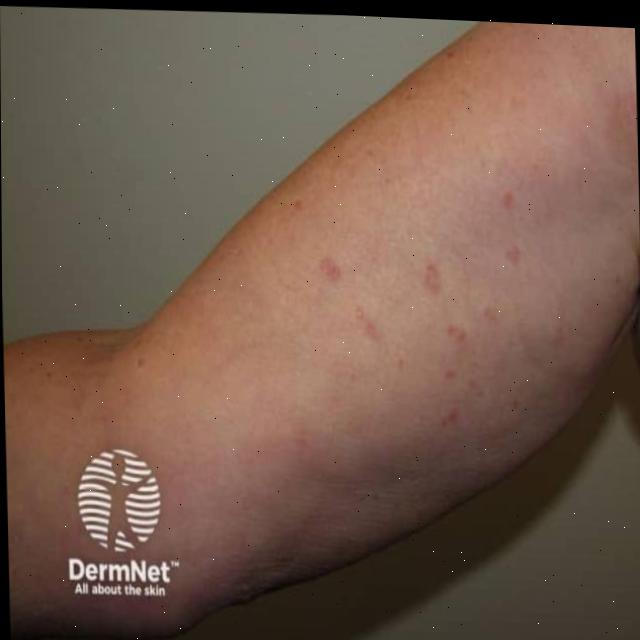Eczema: (312, 220, 546, 384)
